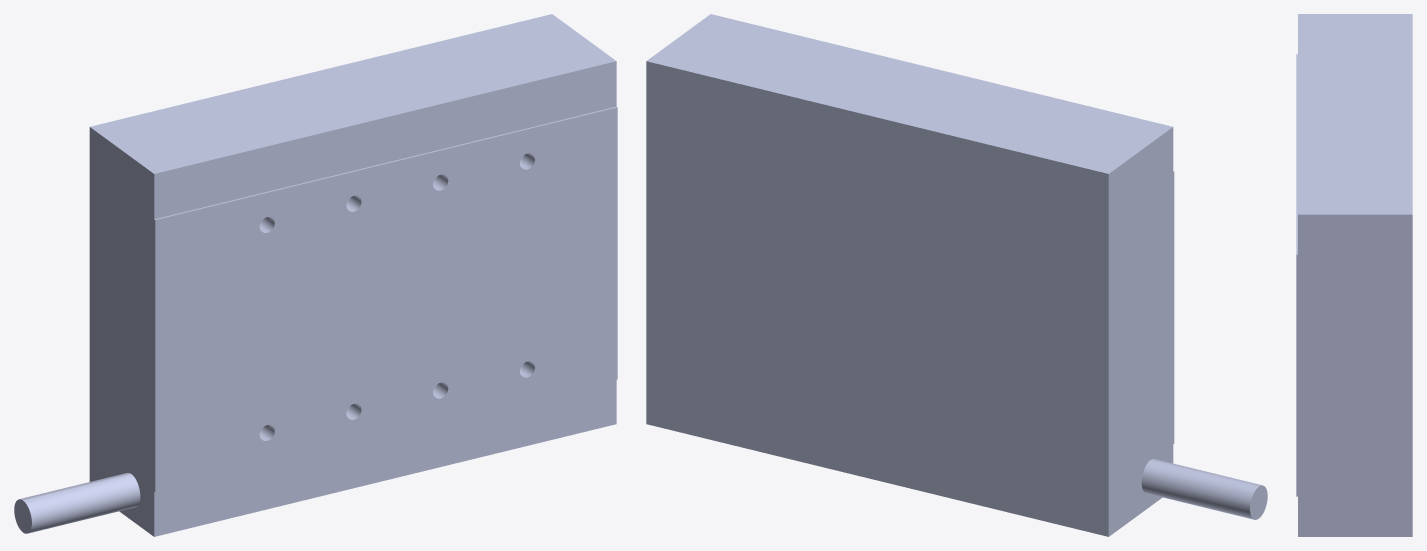
File: MTK-6.glb
The picture shows the model from 3 angles, left to right: view 1: azimuth 30°, elevation 25°; view 2: azimuth 150°, elevation 25°; view 3: azimuth 270°, elevation 25°; orthographic projection. The views are drawn at different scales.
Visible parts, largest first — view 1: MTK-6_node_1; view 2: MTK-6_node_1; view 3: MTK-6_node_1.
Boxes of the visible parts, box(x1,y1,x2,y2) form: MTK-6_node_1: box(14, 14, 617, 536); MTK-6_node_1: box(646, 14, 1267, 536); MTK-6_node_1: box(1296, 14, 1412, 536).
Bounding box in the file's own units: 158 × 96 × 31.4.
